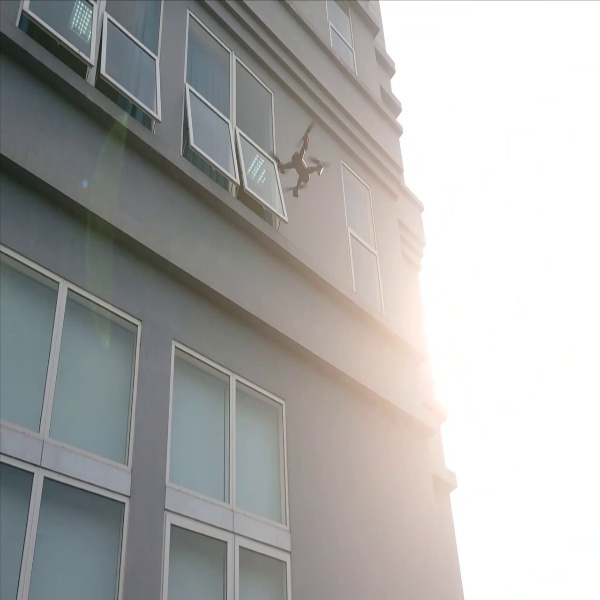drone: (257, 117, 340, 208)
